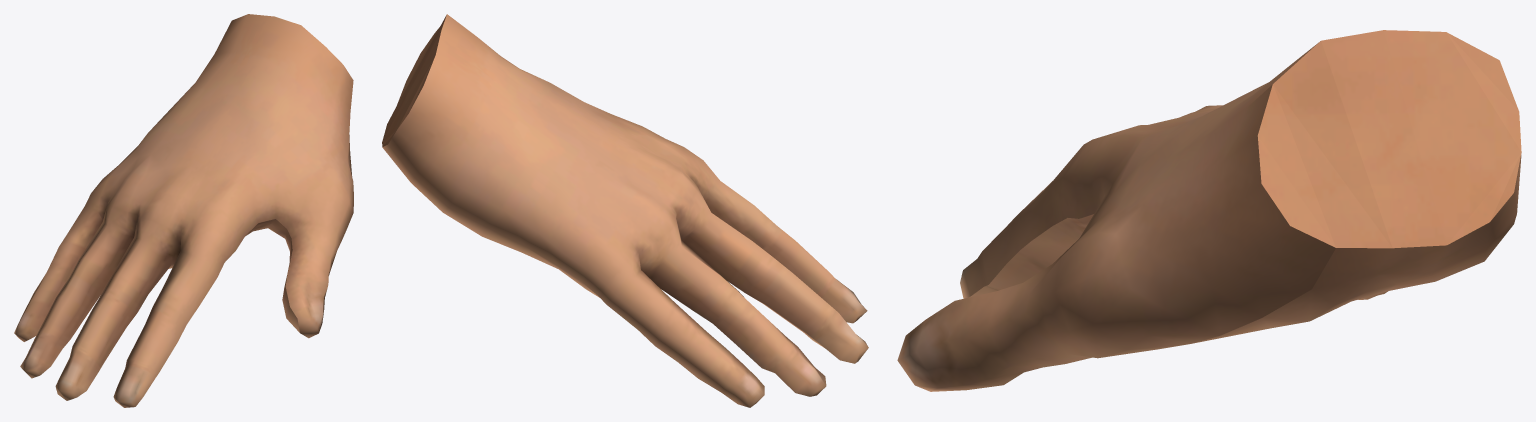
The model's file is AND SON HAND.glb.
The picture shows the model from 3 angles, left to right: view 1: azimuth 30°, elevation 25°; view 2: azimuth 150°, elevation 25°; view 3: azimuth 270°, elevation 25°; orthographic projection. The views are drawn at different scales.
Parts seen in each view (by area): view 1: AND SON HAND; view 2: AND SON HAND; view 3: AND SON HAND.
Part boxes in pixels (left/top/right/bottom): AND SON HAND: left=14, top=14, right=353, bottom=407; AND SON HAND: left=382, top=14, right=868, bottom=407; AND SON HAND: left=897, top=30, right=1521, bottom=391.
Bounding box in the file's own units: 0.1734 × 0.1297 × 0.1376.
1 material, 1 textured.
